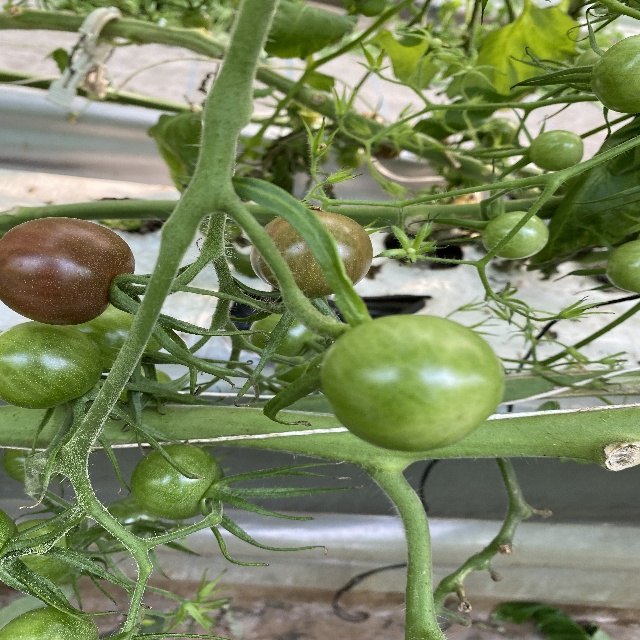l_fully_ripened: (0, 217, 136, 325)
l_green: (321, 314, 505, 453), (0, 320, 107, 411), (130, 443, 225, 521), (71, 302, 165, 368), (6, 519, 78, 585), (591, 33, 640, 115), (1, 606, 101, 639), (481, 211, 548, 260), (248, 311, 311, 361), (527, 130, 583, 172), (606, 239, 640, 294)
l_half_ripened: (250, 211, 374, 297)
